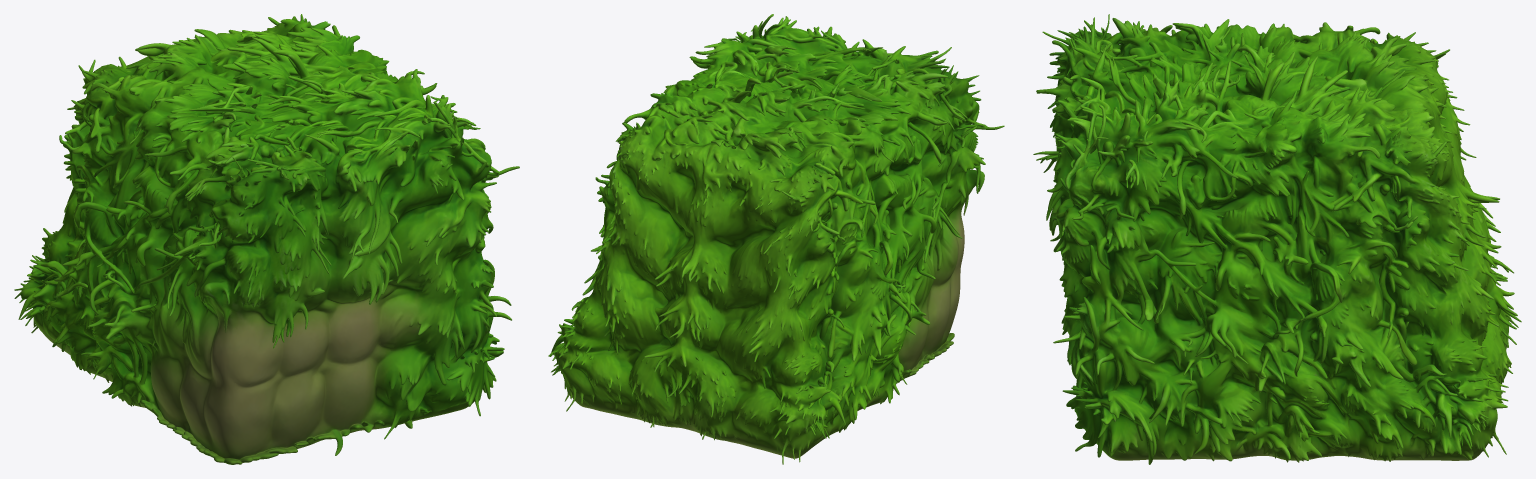
Rendered from tripo_pbr_model_4affe272-6bf0-4901-88f8-2f8633f5a80e_meshopt.glb.
3 renders of one model, left to right at view 1: azimuth 30°, elevation 25°; view 2: azimuth 150°, elevation 25°; view 3: azimuth 270°, elevation 25°, orthographic. The views are drawn at different scales.
Visible parts, largest first — view 1: tripo_node_4affe272-6bf0-4901-88f8-2f8633f5a80e; view 2: tripo_node_4affe272-6bf0-4901-88f8-2f8633f5a80e; view 3: tripo_node_4affe272-6bf0-4901-88f8-2f8633f5a80e.
Part boxes in pixels (<box>): tripo_node_4affe272-6bf0-4901-88f8-2f8633f5a80e: <box>14,14,519,464</box>; tripo_node_4affe272-6bf0-4901-88f8-2f8633f5a80e: <box>548,14,1004,464</box>; tripo_node_4affe272-6bf0-4901-88f8-2f8633f5a80e: <box>1033,14,1521,464</box>.
Size of the model in its own units: 0.8253 by 0.7726 by 0.9792.
1 material, 1 textured.
